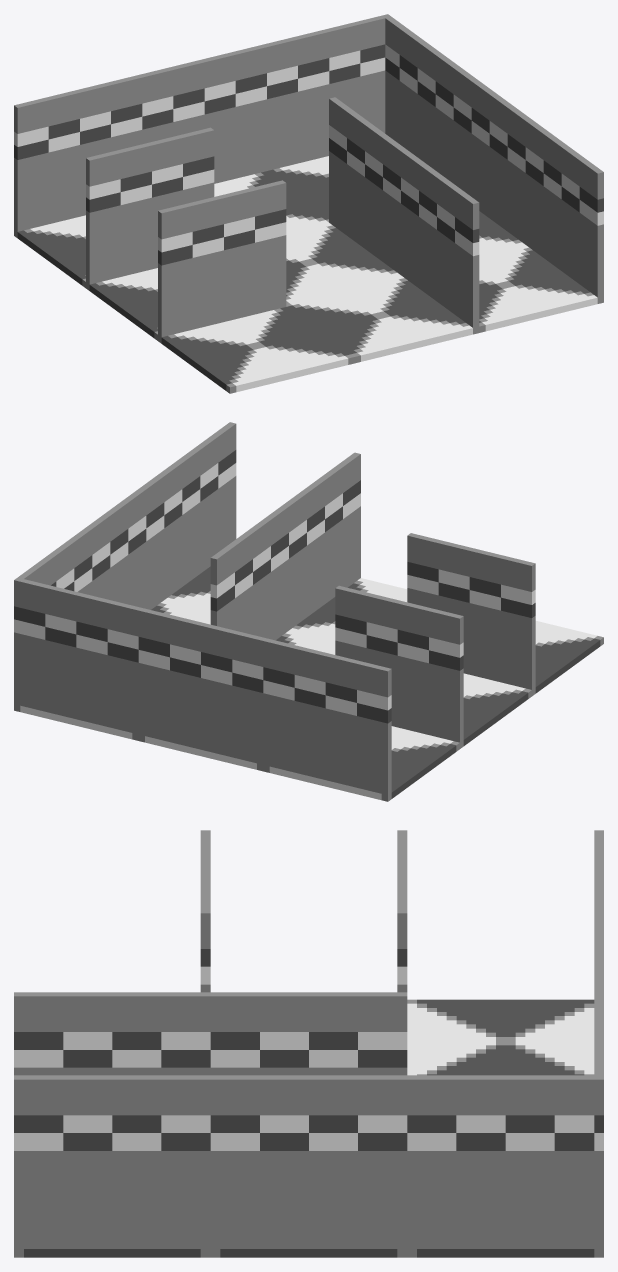
File: level_maze-6.obj
The picture shows the model from 3 angles, top to bottom: view 1: azimuth 30°, elevation 25°; view 2: azimuth 150°, elevation 25°; view 3: azimuth 270°, elevation 25°; orthographic projection. The views are drawn at different scales.
Visible parts, largest first — view 1: level_maze-6; view 2: level_maze-6; view 3: level_maze-6.
Boxes of the visible parts, <box> form: level_maze-6: <box>14,14,603,393</box>; level_maze-6: <box>14,422,603,801</box>; level_maze-6: <box>14,830,603,1257</box>.
Size of the model in its own units: 60 by 20 by 60.
1 material, 1 textured.
